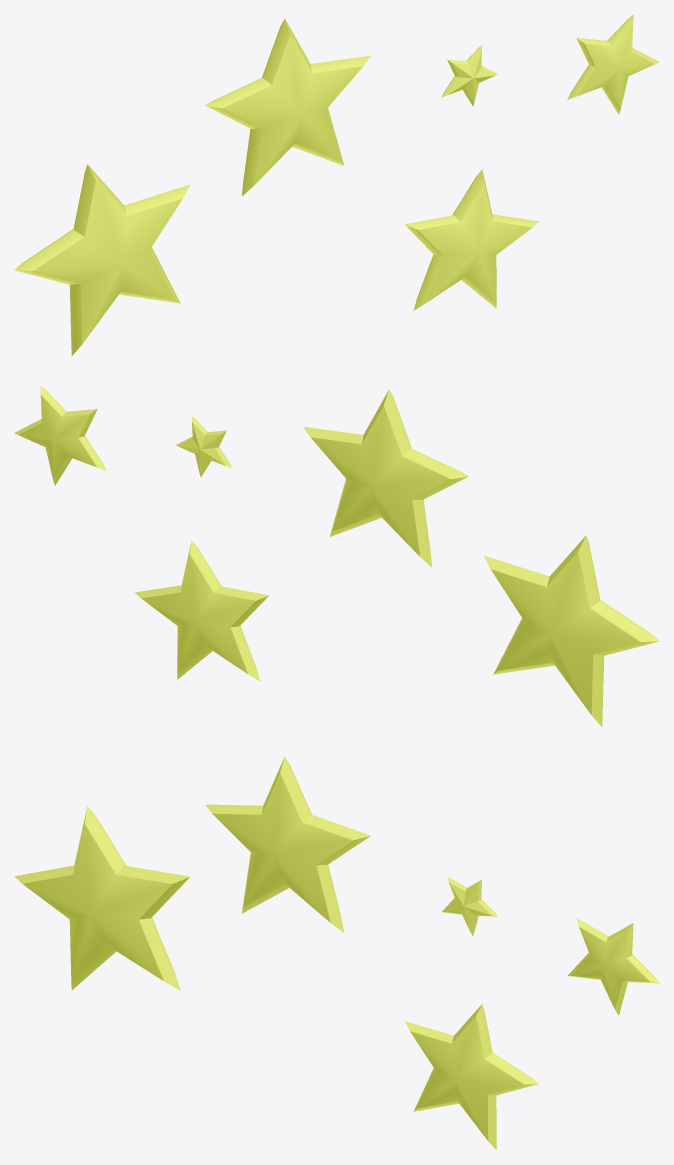
The model's file is SM_Room_LightStar.fbx.
3 views of the same model, one above another, from view 1: azimuth 30°, elevation 25°; view 2: azimuth 150°, elevation 25°; view 3: azimuth 330°, elevation 25° (orthographic).
Visible parts, largest first — view 1: Light_Stars; view 2: Light_Stars; view 3: Light_Stars.
Boxes of the visible parts, x1,y1,x2,y2 form: Light_Stars: (14,14,659,355); Light_Stars: (14,385,659,726); Light_Stars: (14,756,659,1149).
Bounding box in the file's own units: 2.53 × 1.28 × 0.2074.
